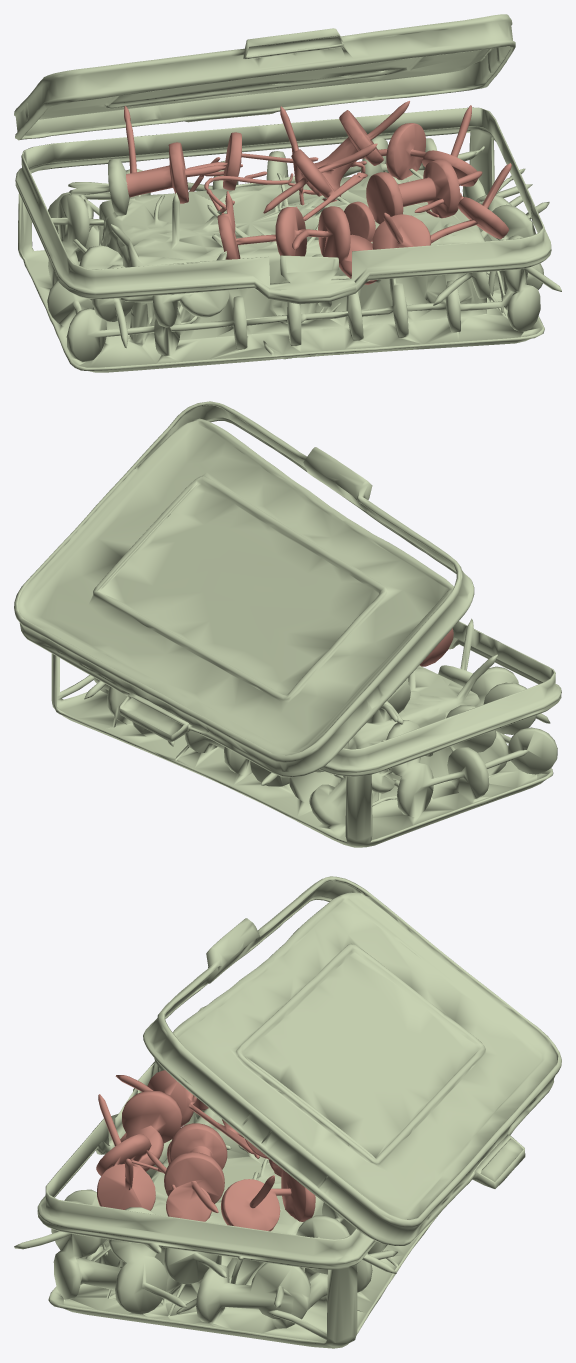
File: board-pushpins.glb
3 renders of one model, top to bottom at view 1: azimuth 30°, elevation 25°; view 2: azimuth 150°, elevation 25°; view 3: azimuth 270°, elevation 25°, orthographic. The views are drawn at different scales.
Parts seen in each view (by area): view 1: Pushpin_box, Pushpin_lid, Pushpin_cluster_02, Pushpin_cluster_05, Pushpin_cluster_03, Pushpin_cluster_07, Pushpin_cluster_06, Pushpin_cluster_10, Pushpin_cluster_08; view 2: Pushpin_lid, Pushpin_box; view 3: Pushpin_lid, Pushpin_box, Pushpin_cluster_02, Pushpin_cluster_05, Pushpin_cluster_07.
Boxes of the visible parts, x1,y1,x2,y2 form: Pushpin_box: (15, 107, 561, 372); Pushpin_lid: (14, 14, 515, 140); Pushpin_cluster_02: (217, 106, 511, 284); Pushpin_cluster_05: (366, 159, 482, 224); Pushpin_cluster_03: (124, 106, 318, 203); Pushpin_cluster_07: (361, 105, 477, 186); Pushpin_cluster_06: (299, 101, 409, 205); Pushpin_cluster_10: (344, 201, 375, 242); Pushpin_cluster_08: (204, 171, 267, 213); Pushpin_lid: (14, 401, 474, 777); Pushpin_box: (51, 618, 561, 847); Pushpin_lid: (143, 876, 561, 1245); Pushpin_box: (14, 1006, 441, 1348); Pushpin_cluster_02: (96, 1070, 259, 1210); Pushpin_cluster_05: (131, 1123, 227, 1221); Pushpin_cluster_07: (221, 1169, 315, 1231).
Bounding box in the file's own units: 1 × 0.5558 × 0.9315.
